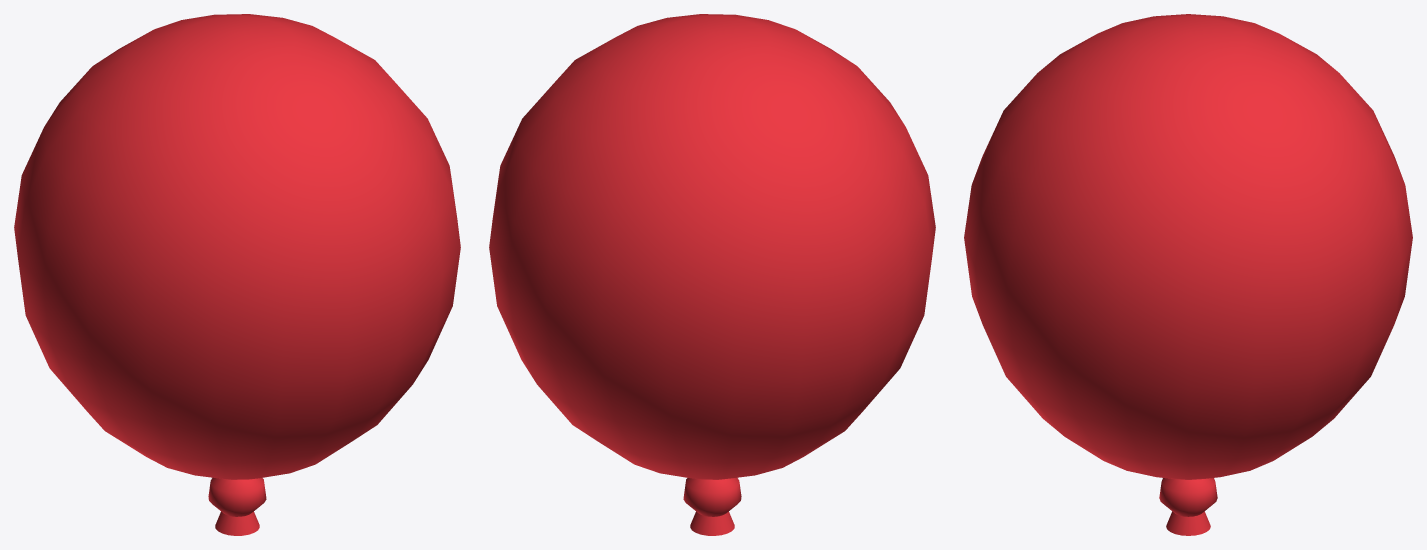
Rendered from Balloon_Red.fbx.
3 views of the same model, side by side, from view 1: azimuth 30°, elevation 25°; view 2: azimuth 150°, elevation 25°; view 3: azimuth 270°, elevation 25° (orthographic).
Parts seen in each view (by area): view 1: Balloon_Red; view 2: Balloon_Red; view 3: Balloon_Red.
Part boxes in pixels (box(x1,y1,x2,y2)): Balloon_Red: box(14, 14, 460, 535); Balloon_Red: box(489, 14, 935, 535); Balloon_Red: box(964, 14, 1412, 535).
Size of the model in its own units: 0.35 by 0.4235 by 0.35.
